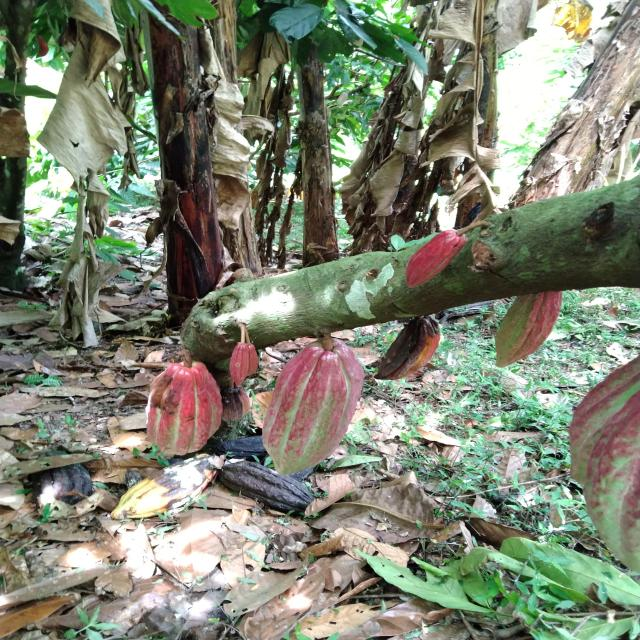Fitoftora: (139, 365, 216, 459), (372, 318, 439, 379), (227, 385, 244, 424)
Sana: (266, 344, 357, 474), (582, 416, 640, 572), (572, 365, 640, 485), (488, 286, 565, 366), (400, 230, 465, 287), (227, 340, 257, 388)
